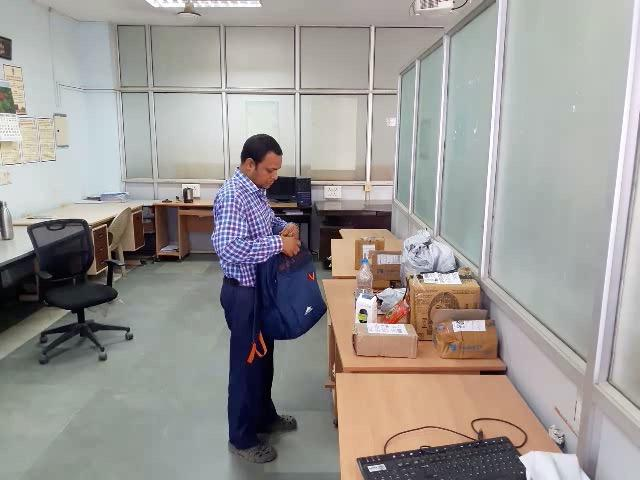shoplifting: (202, 208, 408, 329)
